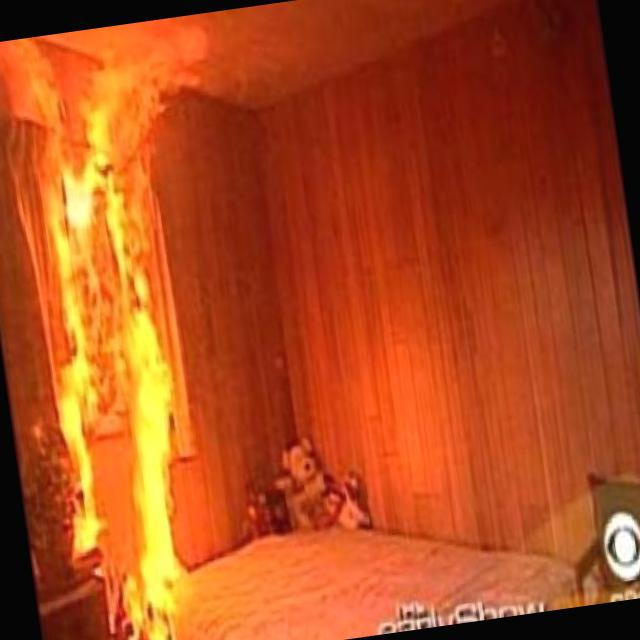fire: (0, 15, 275, 640)
